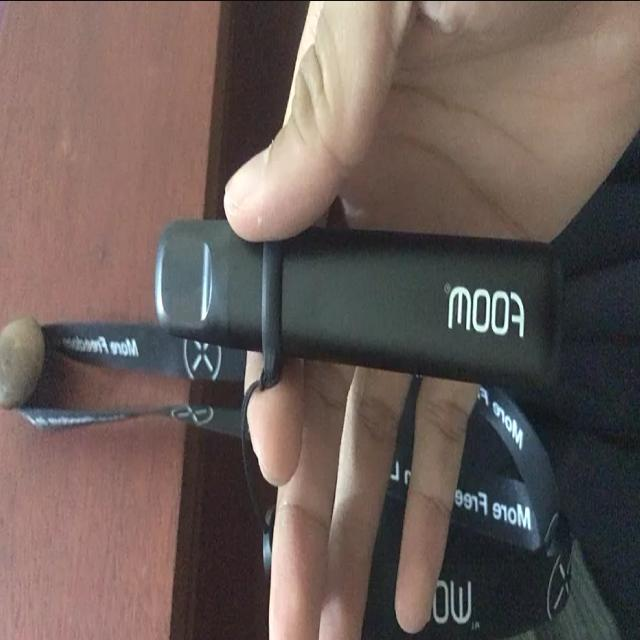Hazard: (151, 218, 564, 396)
